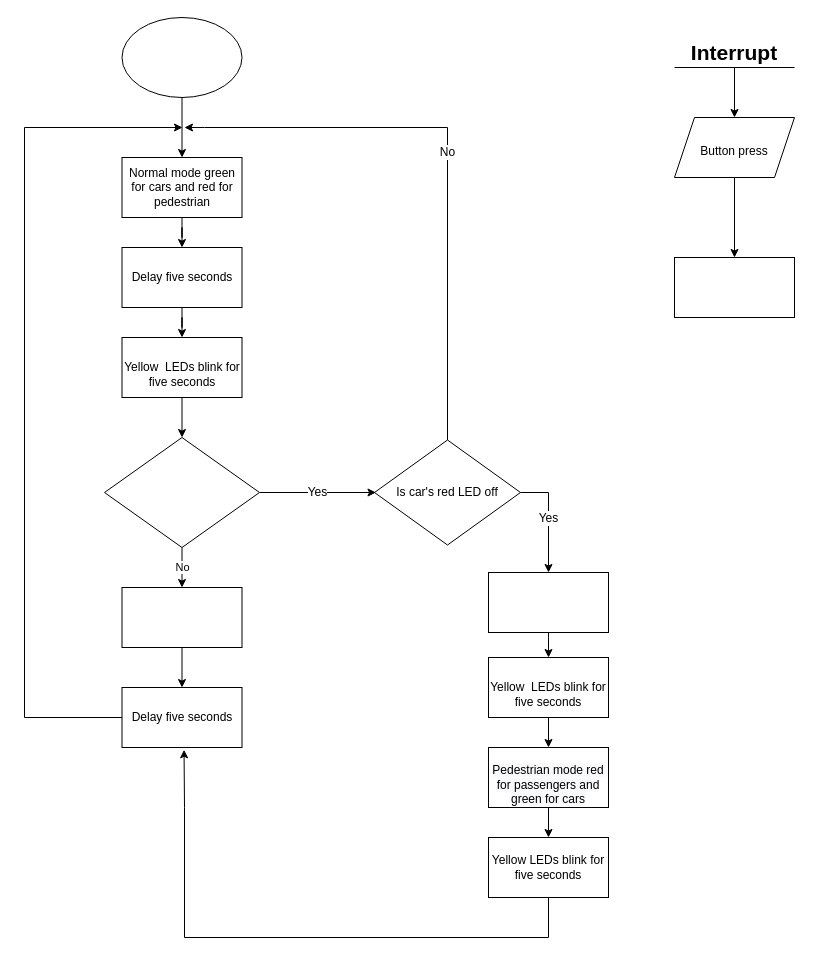
Image size: 813x963. Some labels were removed from this diagram. Here are the shapes that lost their labels. From the top down, the box of each, then its label:
(121, 16, 242, 98): Start
(674, 256, 794, 318): Raise pedestrian flag
(104, 436, 260, 548): Is pedestrian flag raised
(121, 586, 242, 648): Normal mode red for cars and green for pedestrian
(488, 572, 608, 632): Pedestrian mode green for passengers and red for cars
